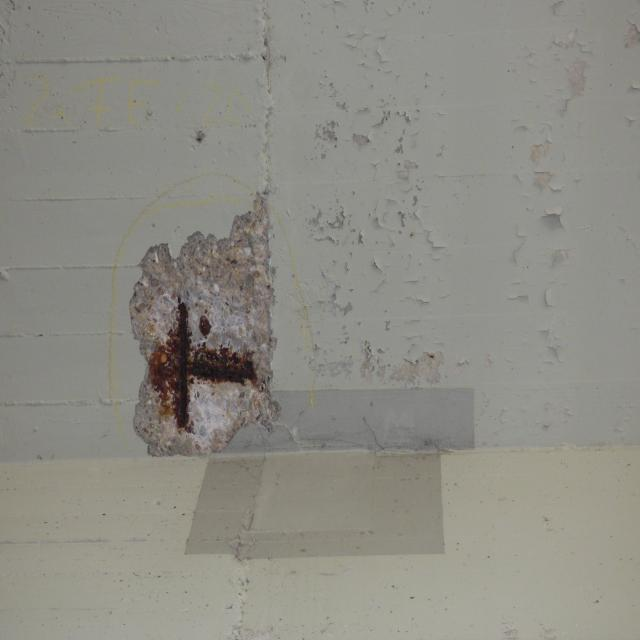corrosion: (142, 293, 274, 448)
